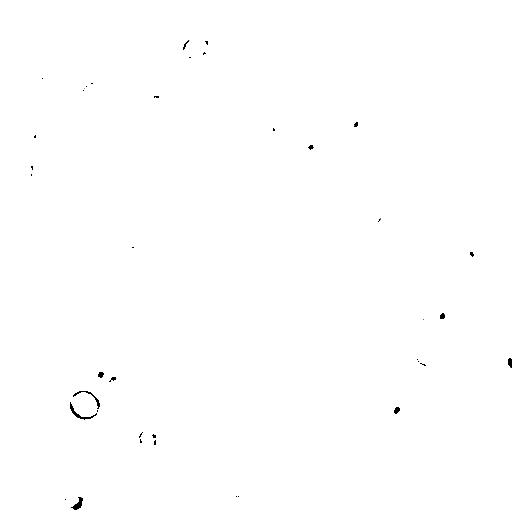micro-algae: (35, 174, 126, 260), (302, 424, 363, 485), (85, 15, 139, 68), (41, 29, 95, 81), (295, 267, 349, 318), (384, 387, 435, 439), (399, 329, 443, 373), (335, 487, 407, 512), (87, 263, 128, 295), (276, 170, 307, 209), (425, 297, 459, 327), (97, 368, 129, 399), (325, 81, 358, 111), (69, 389, 101, 419), (401, 145, 430, 177), (288, 133, 322, 160), (494, 417, 512, 467), (457, 235, 483, 269), (210, 147, 236, 179), (205, 35, 233, 64), (233, 25, 259, 55), (257, 113, 283, 143), (113, 244, 143, 269), (491, 340, 511, 377), (37, 63, 63, 91), (269, 22, 297, 47), (381, 393, 405, 422), (298, 158, 322, 185), (80, 80, 103, 107), (181, 37, 207, 60), (115, 335, 141, 358), (86, 360, 109, 383), (223, 265, 245, 289), (418, 346, 443, 367), (226, 491, 252, 511), (126, 377, 146, 403), (17, 72, 41, 93), (197, 276, 217, 301), (17, 121, 39, 143), (374, 210, 393, 235), (494, 304, 511, 331), (344, 112, 365, 133), (61, 491, 83, 511), (138, 427, 158, 449), (462, 388, 481, 411), (56, 366, 75, 389), (417, 318, 438, 338), (327, 479, 347, 500), (287, 458, 307, 477), (423, 0, 454, 12), (103, 476, 117, 501), (128, 303, 147, 321), (21, 162, 37, 179), (73, 503, 107, 511)
